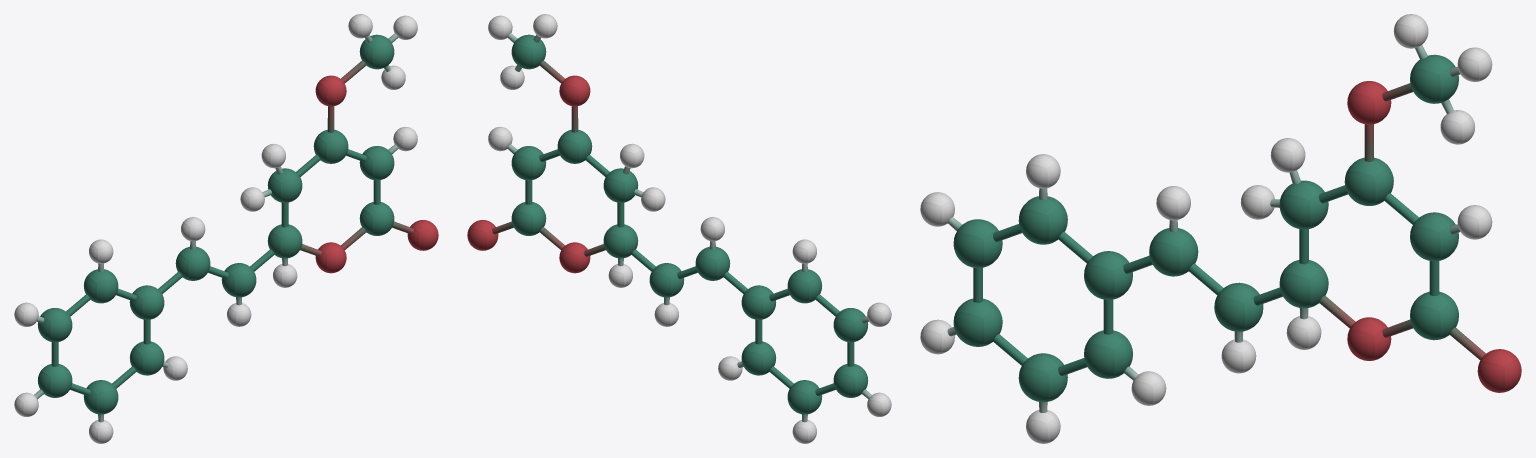
File: Kavain.fbx
The picture shows the model from 3 angles, left to right: view 1: azimuth 30°, elevation 25°; view 2: azimuth 150°, elevation 25°; view 3: azimuth 330°, elevation 25°; orthographic projection. The views are drawn at different scales.
Visible parts, largest first — view 1: curMeshHyperballExportedMesh; view 2: curMeshHyperballExportedMesh; view 3: curMeshHyperballExportedMesh.
Part boxes in pixels (bbox=[...]): curMeshHyperballExportedMesh: bbox=[14, 14, 438, 443]; curMeshHyperballExportedMesh: bbox=[467, 14, 891, 443]; curMeshHyperballExportedMesh: bbox=[920, 14, 1521, 443].
Size of the model in its own units: 7.92 by 6.56 by 0.5667.
